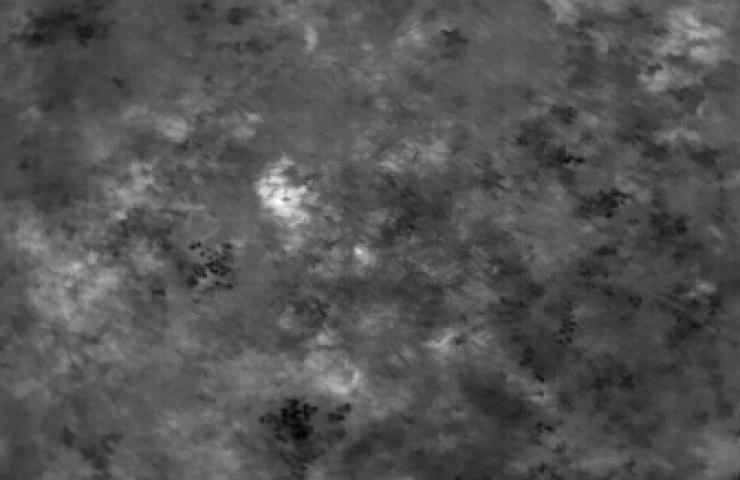landmines: (254, 155, 331, 233)
